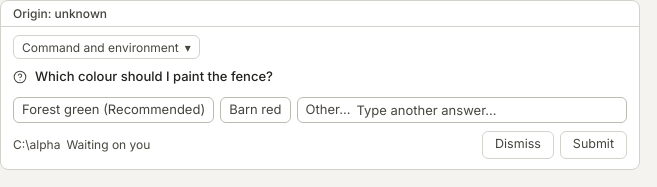
Test: stale permission answer, second pass › a question card goes terminal through Dismiss
Step 1. Click the button "Dismiss" → coordinates (518, 145), box x1=482 y1=131 x2=554 y2=159
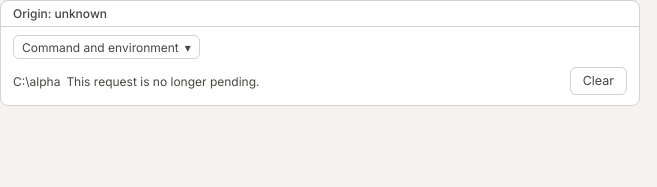
Check: the text "This request is no longer pending." is shown, box x1=66 y1=73 x2=260 y2=90
Check: the button "Clear" is shown, box x1=570 y1=67 x2=627 y2=95
